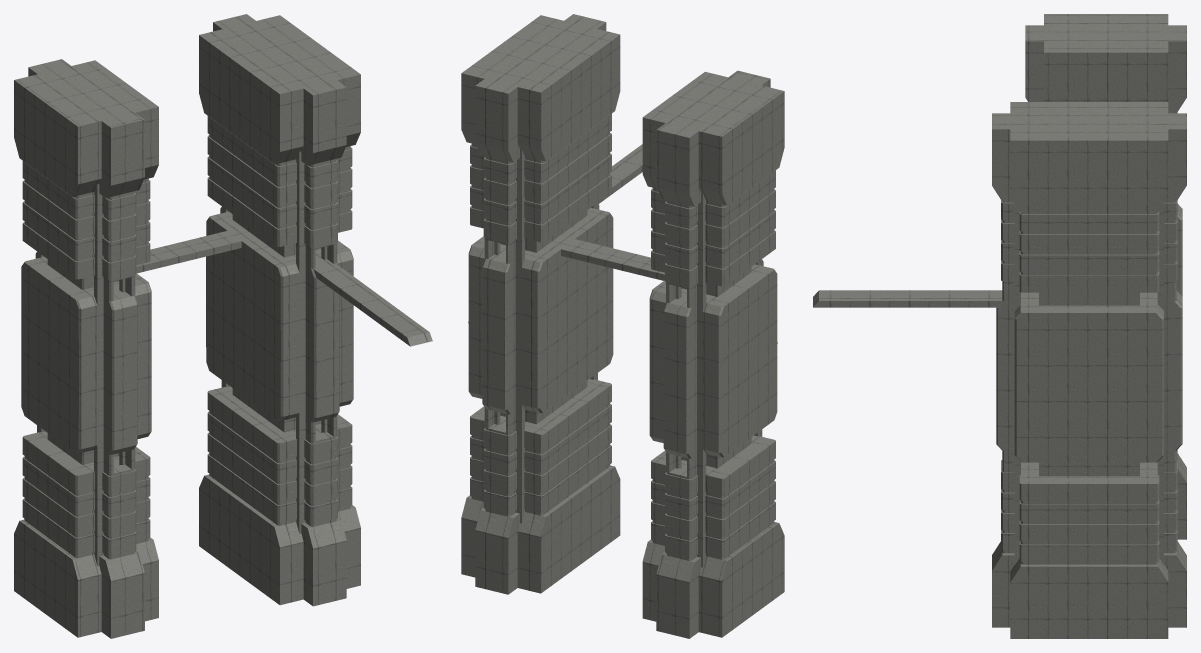
The picture shows the model from 3 angles, left to right: view 1: azimuth 30°, elevation 25°; view 2: azimuth 150°, elevation 25°; view 3: azimuth 270°, elevation 25°; orthographic projection. The views are drawn at different scales.
Parts seen in each view (by area): view 1: walkarea; view 2: walkarea; view 3: walkarea.
Boxes of the visible parts, x1,y1,x2,y2 form: walkarea: [14, 14, 432, 638]; walkarea: [461, 14, 784, 638]; walkarea: [813, 14, 1186, 638].
Size of the model in its own units: 4370 by 5456 by 8026.
